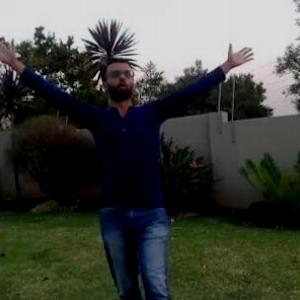takeoff: (1, 30, 291, 299)
